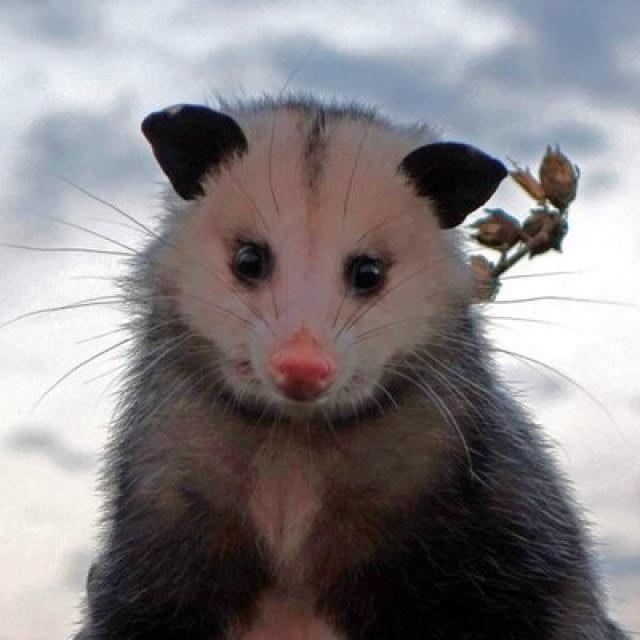Possum: (79, 84, 635, 640)
